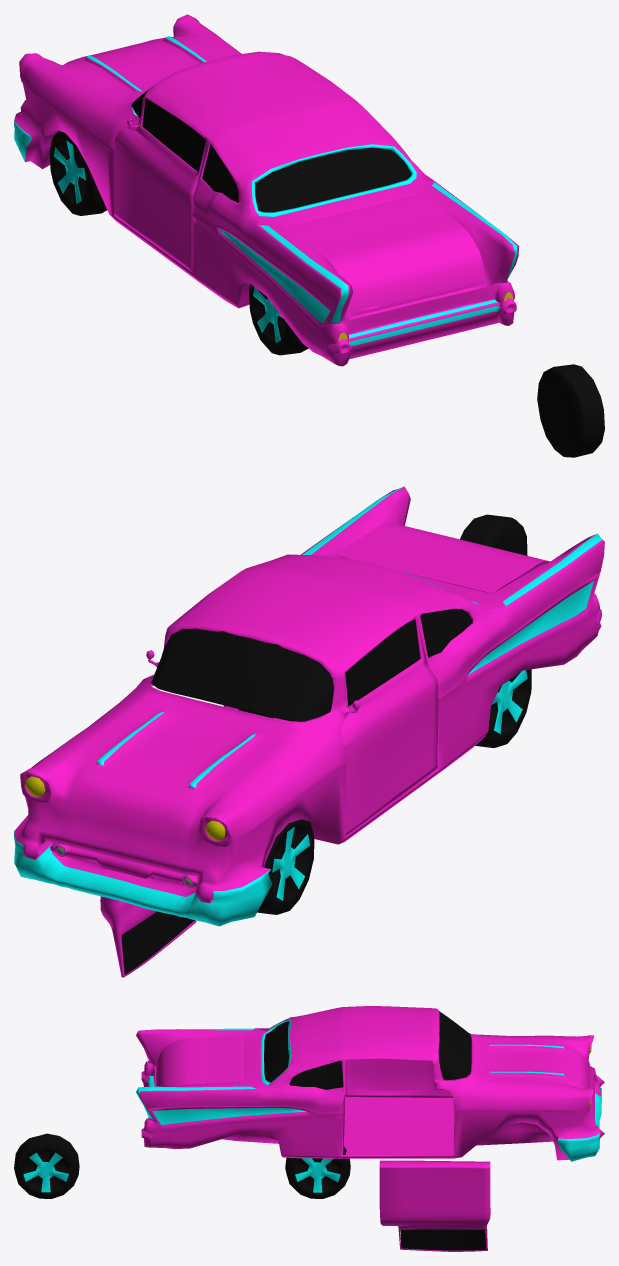
Rendered from car_pink.fbx.
3 renders of one model, top to bottom at view 1: azimuth 30°, elevation 25°; view 2: azimuth 150°, elevation 25°; view 3: azimuth 270°, elevation 25°, orthographic. The views are drawn at different scales.
Visible parts, largest first — view 1: car_body_lp_uv_RetopoGroup1, baggage_door, polySurface5_polySurface4_polySurface002, Windows_Car_body_Car_back_window, car_left_wheel_lp_uv_RetopoGroup004, car_left_wheel_lp_uv_RetopoGroup1, polySurface3_polySurface002, car_left_wheel_lp_uv_RetopoGroup002, Windows_Car_body_Car_left_window_small; view 2: car_body_lp_uv_RetopoGroup1, polySurface5_polySurface4_polySurface002, front_window_Windows_Car_body_Car, baggage_door, car_left_wheel_lp_uv_RetopoGroup1, polySurface3_polySurface002, car_left_wheel_lp_uv_RetopoGroup002, polySurface3_polySurface1, car_left_wheel_lp_uv_RetopoGroup004, polySurface5_polySurface4_polySurface1, Windows_Car_body_Car_left_window_small; view 3: car_body_lp_uv_RetopoGroup1, polySurface5_polySurface4_polySurface1, baggage_door, polySurface5_polySurface4_polySurface002, car_left_wheel_lp_uv_RetopoGroup004, car_left_wheel_lp_uv_RetopoGroup003, front_window_Windows_Car_body_Car, polySurface3_polySurface1, Windows_Car_body_Car_back_window, Windows_Car_body_Car_right_window_small.
Part boxes in pixels (x1,y1,x2,y2): car_body_lp_uv_RetopoGroup1: (14, 14, 519, 366); baggage_door: (287, 193, 484, 316); polySurface5_polySurface4_polySurface002: (114, 96, 207, 272); Windows_Car_body_Car_back_window: (255, 147, 411, 212); car_left_wheel_lp_uv_RetopoGroup004: (537, 364, 604, 457); car_left_wheel_lp_uv_RetopoGroup1: (49, 131, 106, 215); polySurface3_polySurface002: (142, 98, 205, 171); car_left_wheel_lp_uv_RetopoGroup002: (249, 284, 308, 355); Windows_Car_body_Car_left_window_small: (202, 144, 238, 202); car_body_lp_uv_RetopoGroup1: (14, 486, 604, 926); polySurface5_polySurface4_polySurface002: (340, 616, 437, 835); front_window_Windows_Car_body_Car: (151, 628, 333, 721); baggage_door: (333, 522, 550, 593); car_left_wheel_lp_uv_RetopoGroup1: (257, 819, 314, 914); polySurface3_polySurface002: (345, 619, 420, 706); car_left_wheel_lp_uv_RetopoGroup002: (475, 669, 531, 747); polySurface3_polySurface1: (121, 911, 194, 974); car_left_wheel_lp_uv_RetopoGroup004: (460, 514, 527, 555); polySurface5_polySurface4_polySurface1: (100, 896, 196, 977); Windows_Car_body_Car_left_window_small: (420, 609, 472, 657); car_body_lp_uv_RetopoGroup1: (136, 1006, 604, 1161); polySurface5_polySurface4_polySurface1: (379, 1160, 490, 1251); baggage_door: (156, 1035, 243, 1086); polySurface5_polySurface4_polySurface002: (345, 1058, 453, 1097); car_left_wheel_lp_uv_RetopoGroup004: (14, 1133, 79, 1198); car_left_wheel_lp_uv_RetopoGroup003: (285, 1147, 350, 1198); front_window_Windows_Car_body_Car: (438, 1011, 471, 1080); polySurface3_polySurface1: (400, 1229, 486, 1250); Windows_Car_body_Car_back_window: (264, 1021, 288, 1082); Windows_Car_body_Car_right_window_small: (289, 1060, 343, 1089).
Bounding box in the file's own units: 34.9 × 46.14 × 122.
